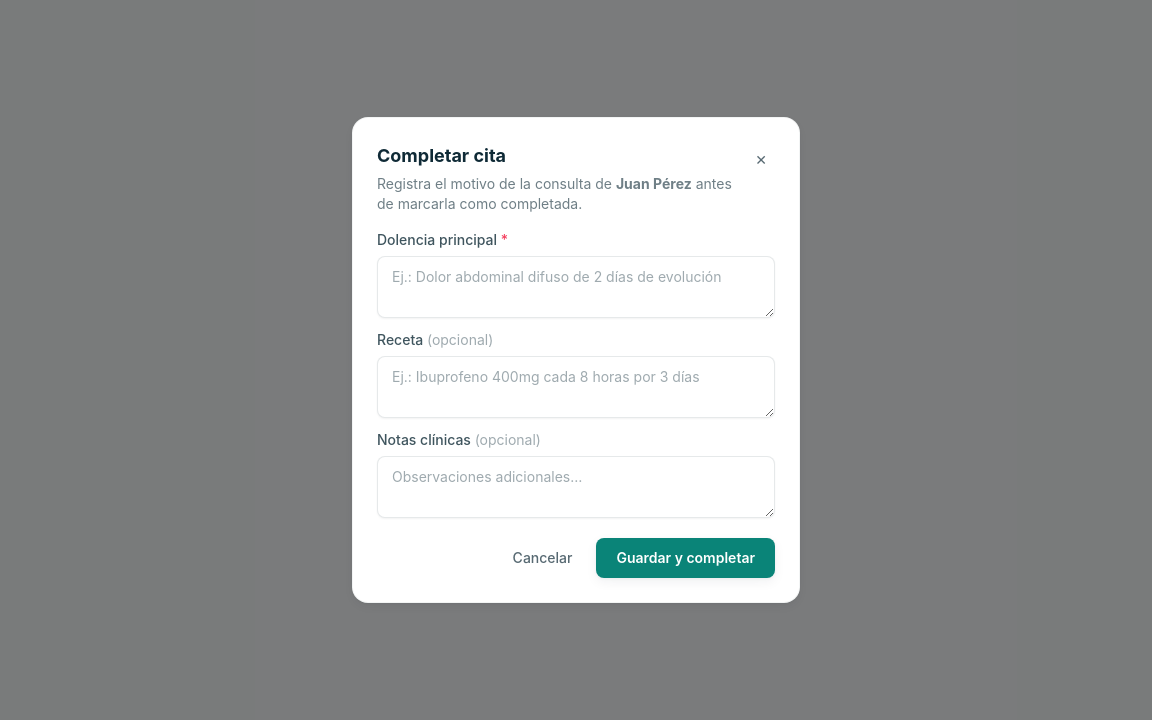
Test: <ModalCompletarCita /> › muestra "Guardando…" y deshabilita los botones mientras envía
Type "Gripe" into the text box labelled "Dolencia principal *" at (576, 287), box [377, 256, 775, 318]
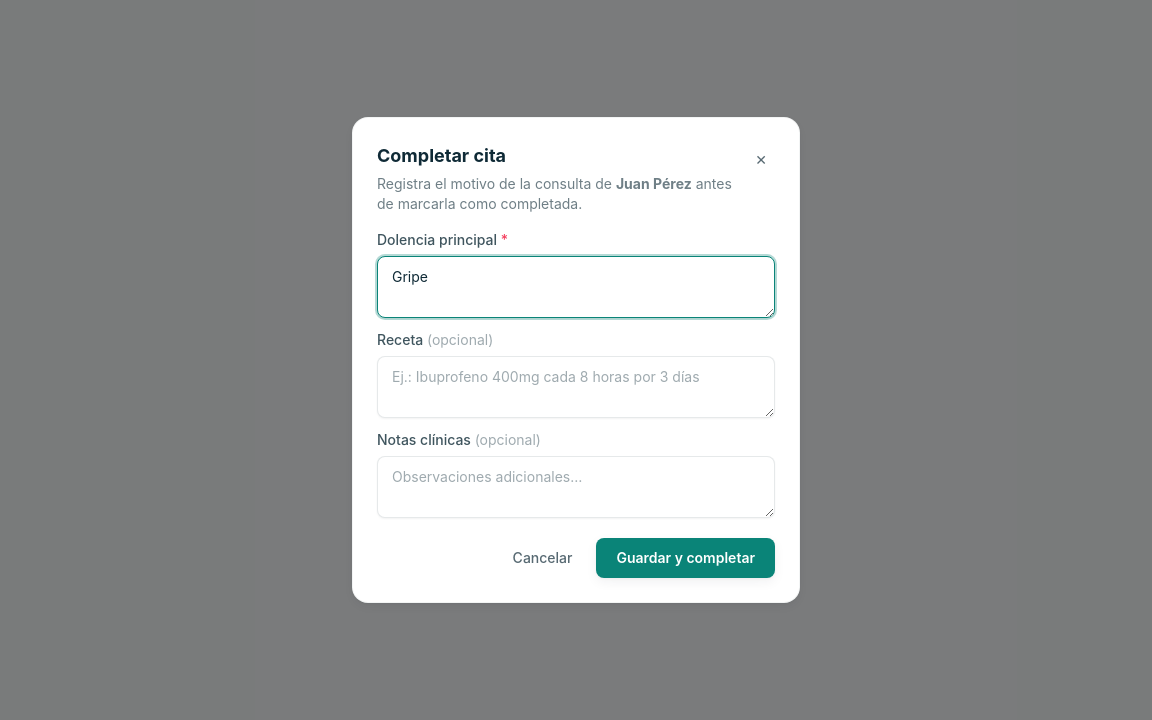
Click the button "Guardar y completar" at (686, 558), box [596, 538, 775, 578]
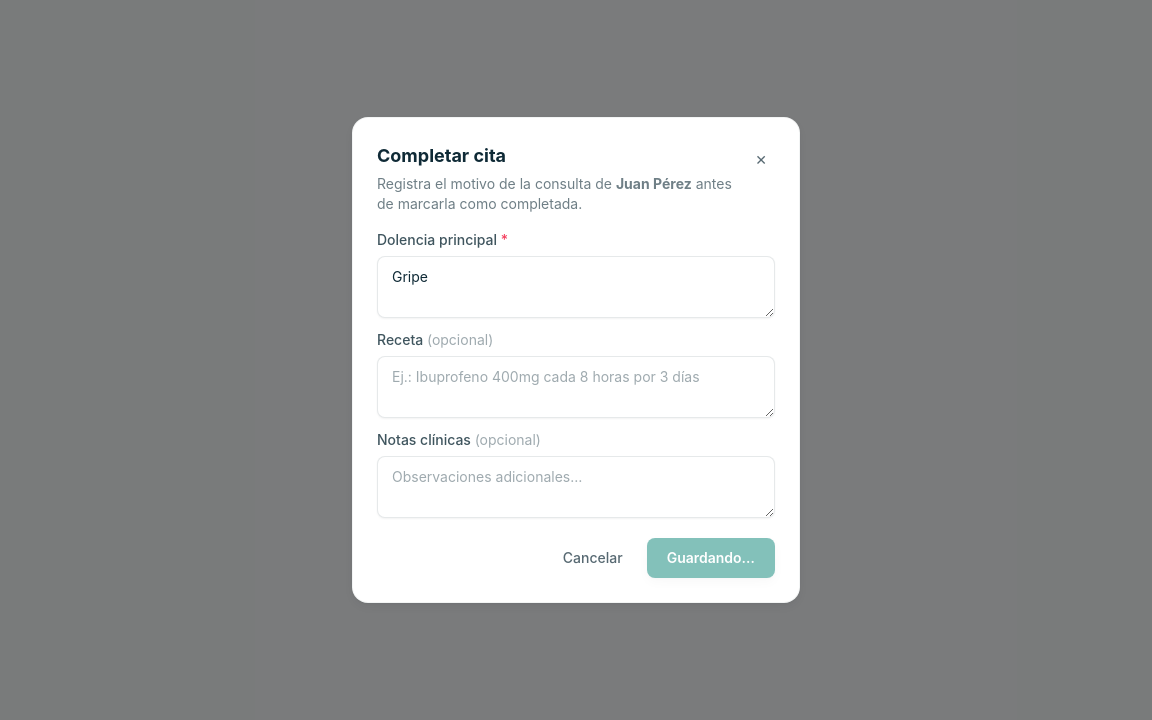
Expected: the button "Guardando…" is disabled, [647, 538, 775, 578]
Expected: the button "Cancelar" is disabled, [547, 538, 639, 578]
